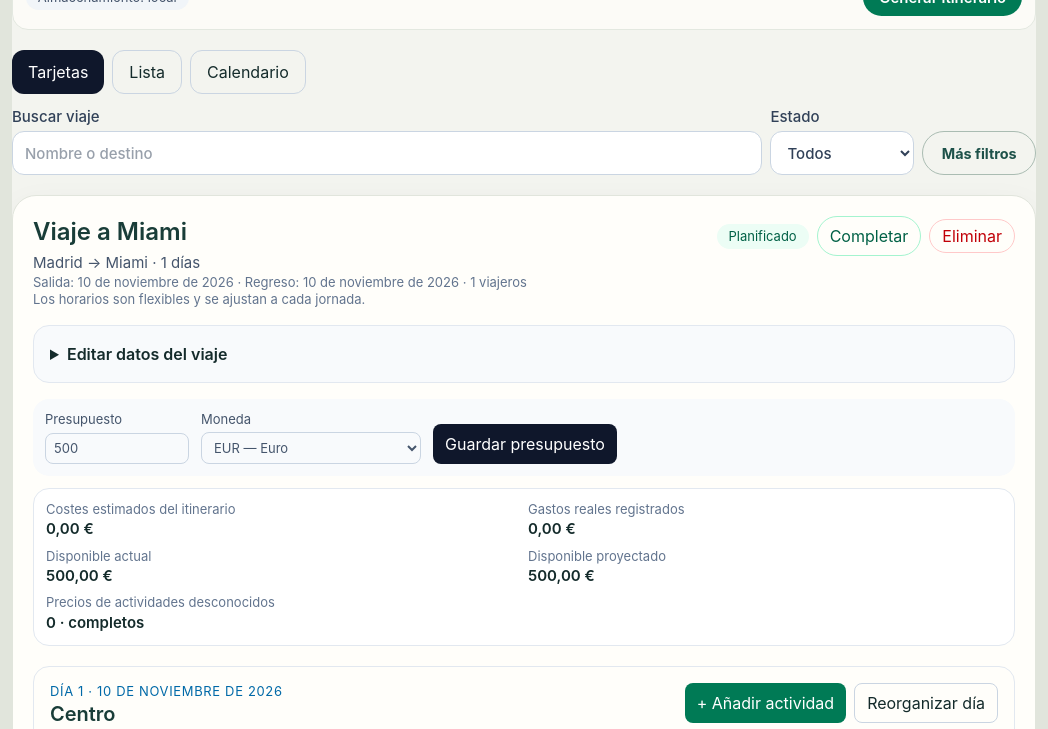
Test case: edición de horarios en viajes guardados › crea y persiste una actividad desde la cabecera de la jornada, también antes de las 07:00
Click the button "+ Añadir actividad": [765, 703] box [685,683,846,723]
(page scrolled)
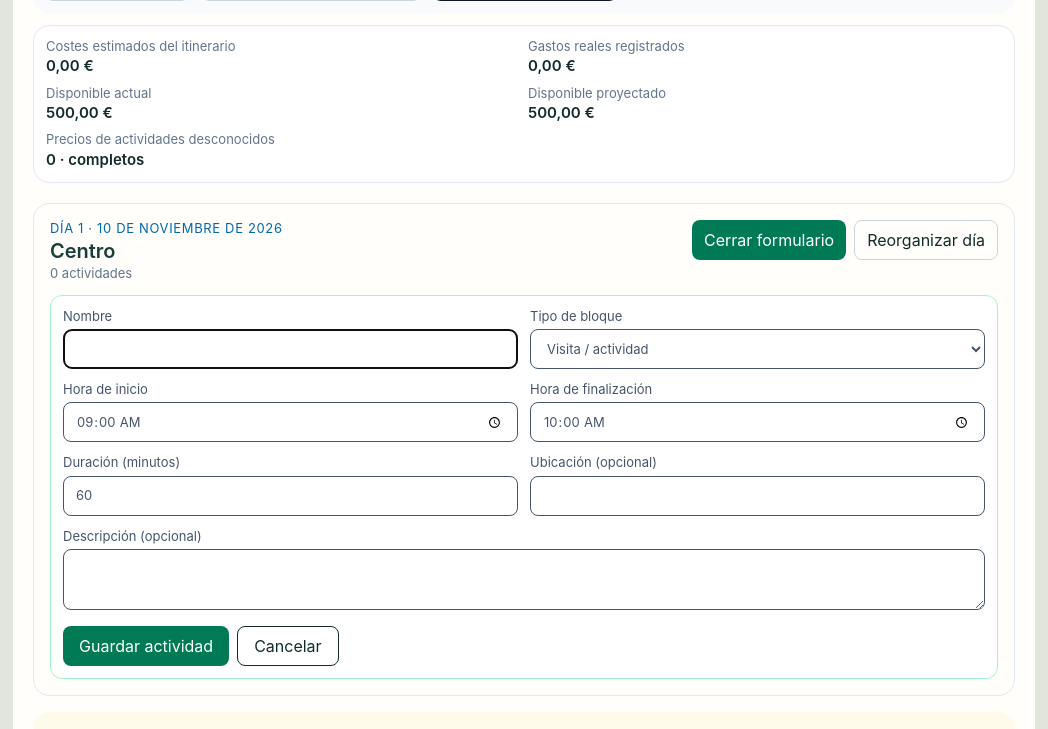
In the field labelled "Nombre": [290, 349] box [63,329,518,369], type "Paseo al amanecer"
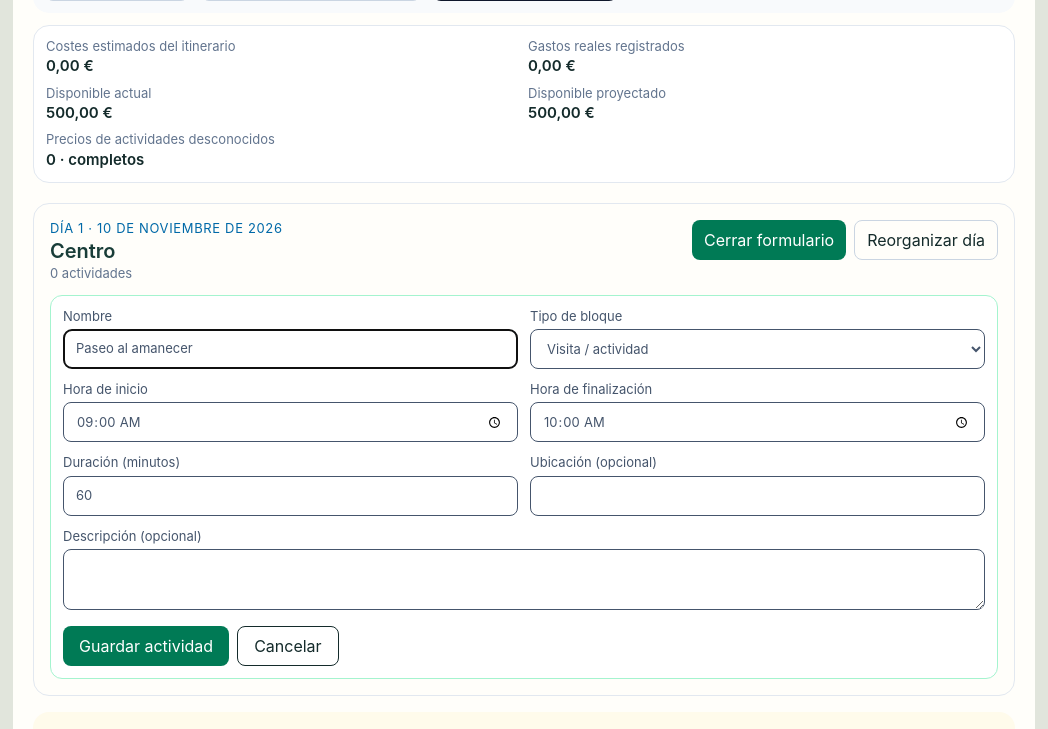
Replace the text in the time field labelled "Hora de inicio" with "06:00": [290, 422] box [63,402,518,442]
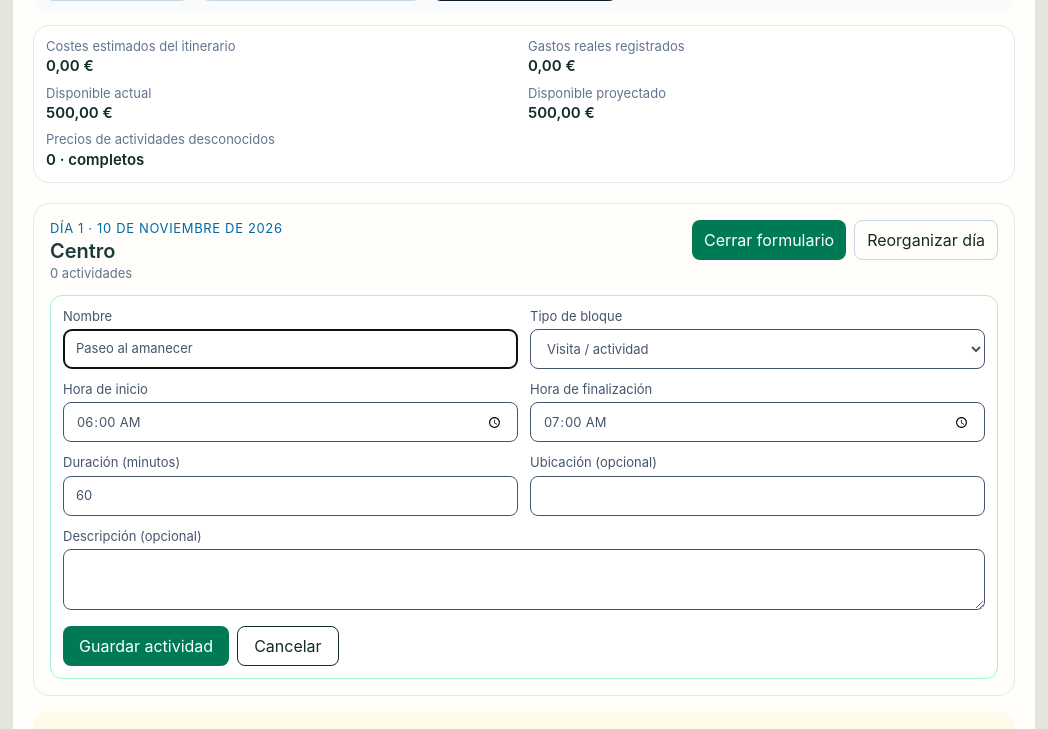
expect the time field labelled "Hora de finalización" holds "07:00": met, box [530,402,985,442]
Click the button "Guardar actividad": [146, 646] box [63,626,229,666]
(page scrolled)
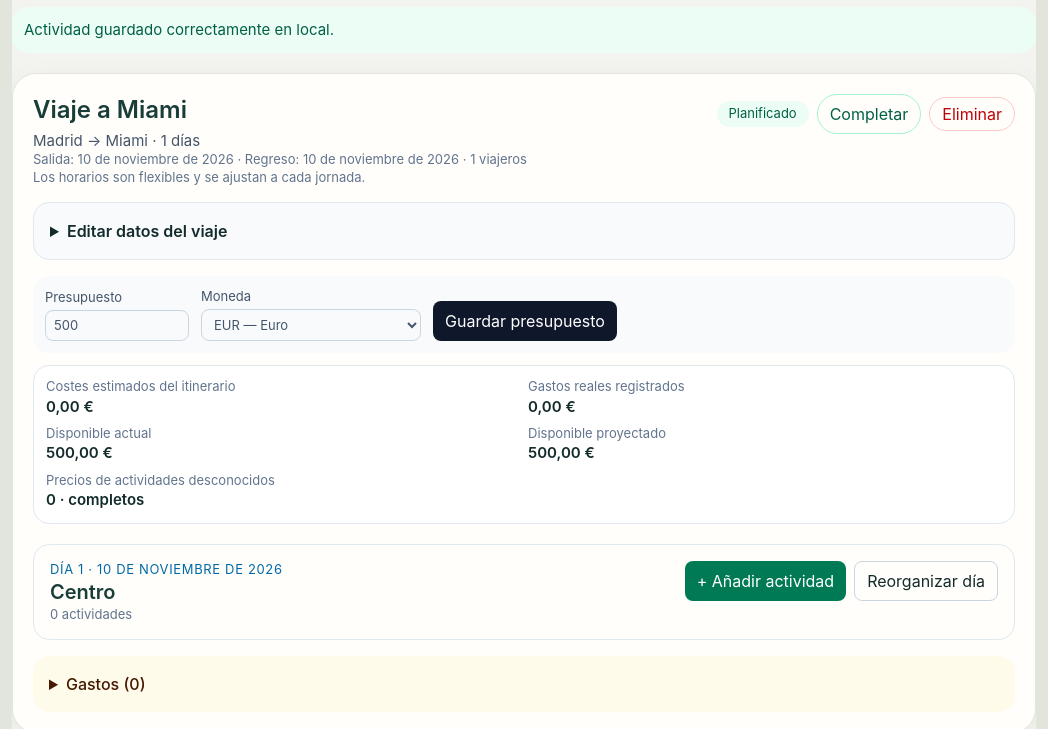
expect the text "Actividad guardado correctamente en local." is shown: met, box [12,7,1036,53]
